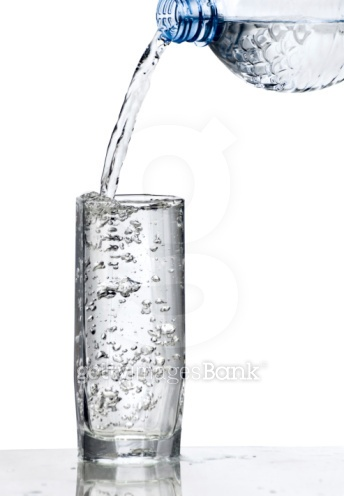glass of water: (65, 184, 207, 479)
